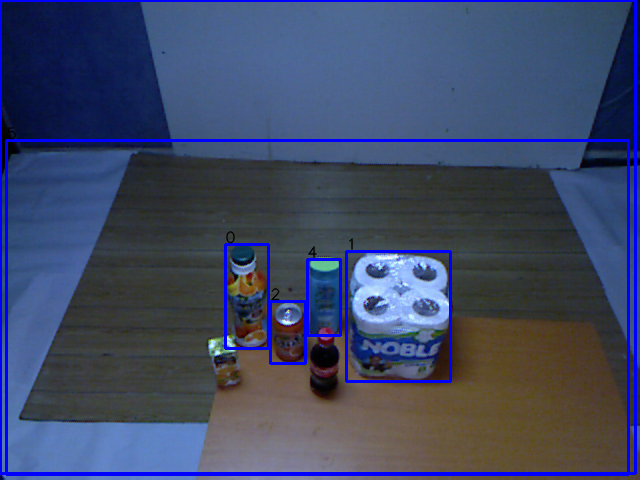balsamo: (306, 252, 347, 341)
coca: (303, 325, 346, 403)
confort: (340, 246, 457, 386)
jugoind: (203, 331, 245, 392)
lata: (269, 297, 311, 367)
yogurt: (217, 240, 273, 352)
